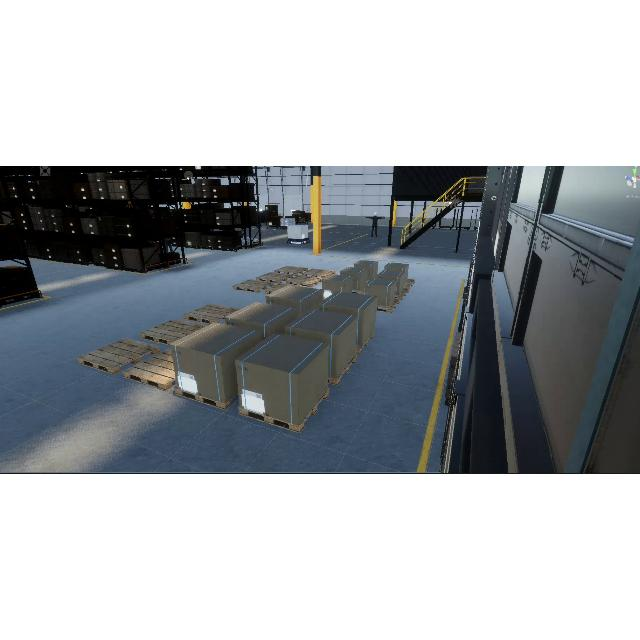wooden_pallet: (238, 388, 330, 433), (76, 338, 160, 375), (122, 348, 176, 391), (138, 318, 207, 345), (174, 387, 239, 409), (183, 303, 240, 324), (328, 355, 358, 387), (377, 298, 400, 314)
